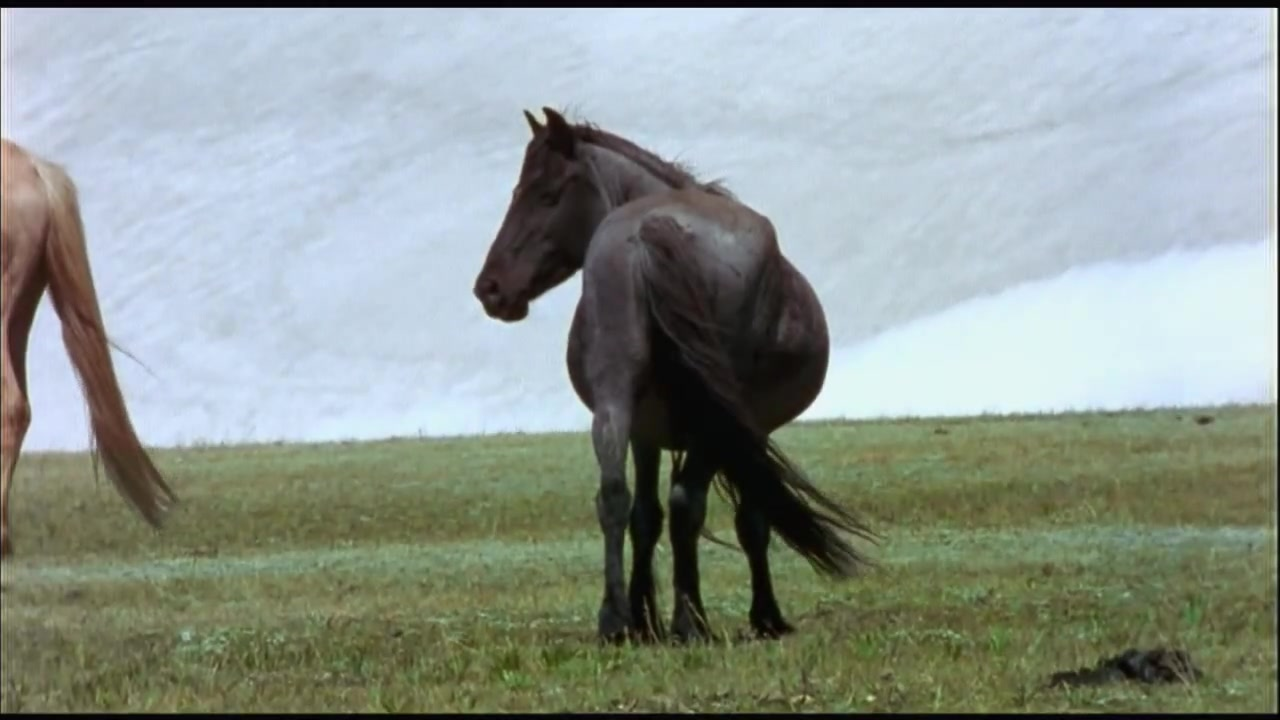horse: (472, 101, 884, 653)
